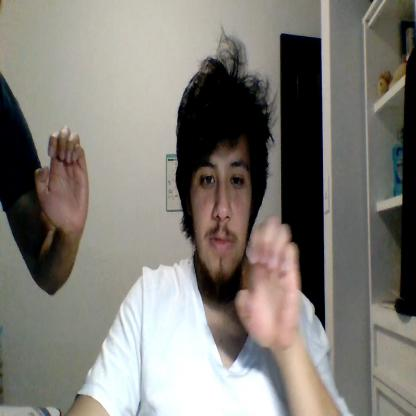E: (235, 218, 301, 352), (35, 125, 90, 233)
